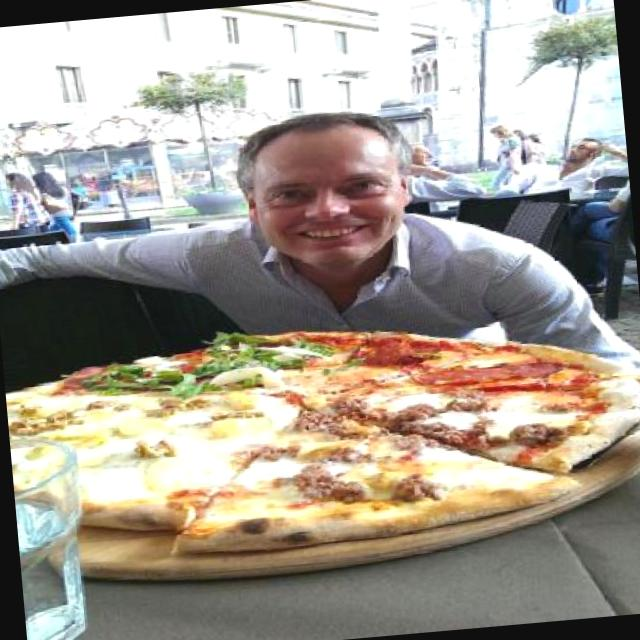Person: (0, 90, 633, 416), (546, 177, 638, 290), (490, 134, 630, 206), (406, 158, 486, 204), (482, 124, 532, 192), (30, 169, 79, 238), (2, 171, 53, 236), (512, 128, 538, 167), (406, 142, 442, 165), (40, 192, 64, 214)
